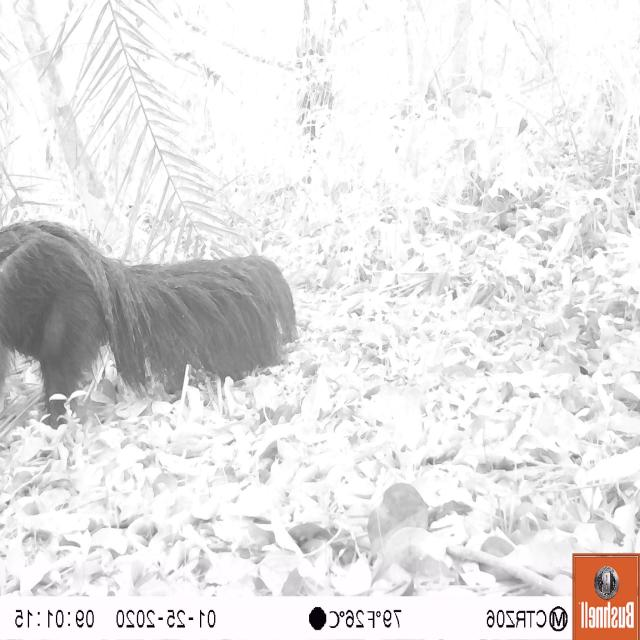Giant Anteater: (0, 206, 319, 434)
